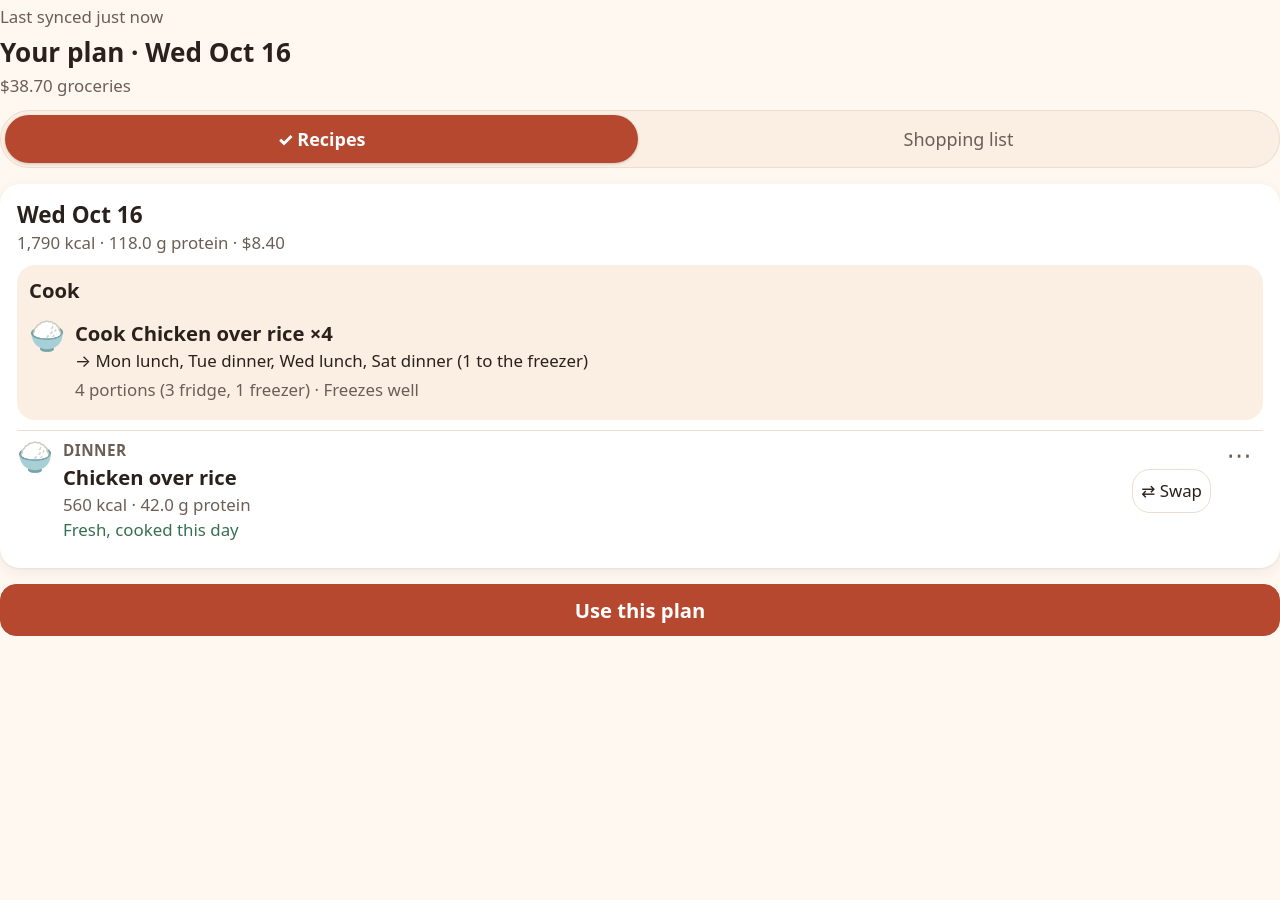
Test: a swap that can't be applied › says why at the top of the sheet and on the option, keeps the sheet open and the meal as it was
Click the button with aria-label "Swap Chicken over rice": [1172, 491] box [1132, 469, 1211, 513]
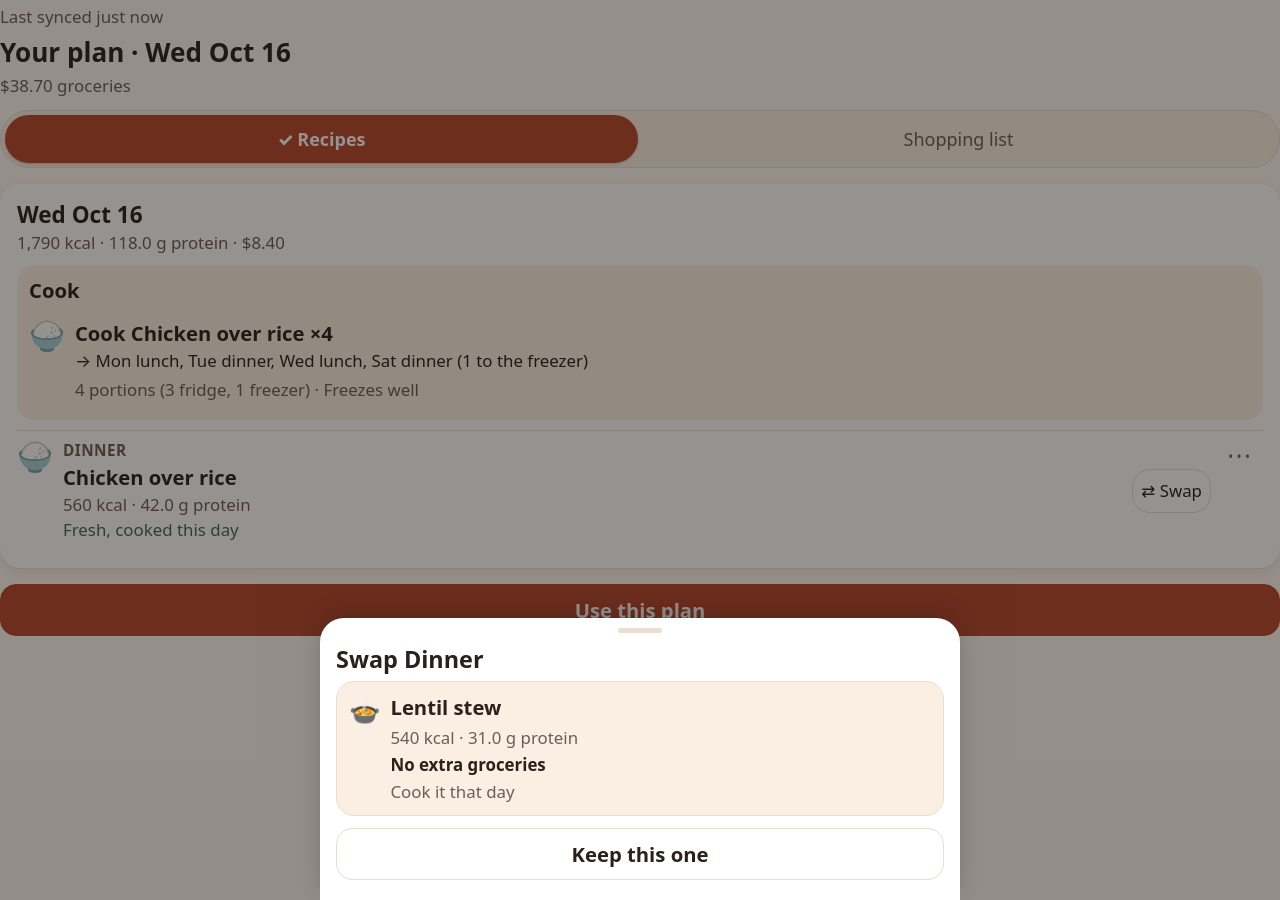
Click the button with aria-label "Swap to Lentil stew": [365, 710] box [336, 681, 944, 816]
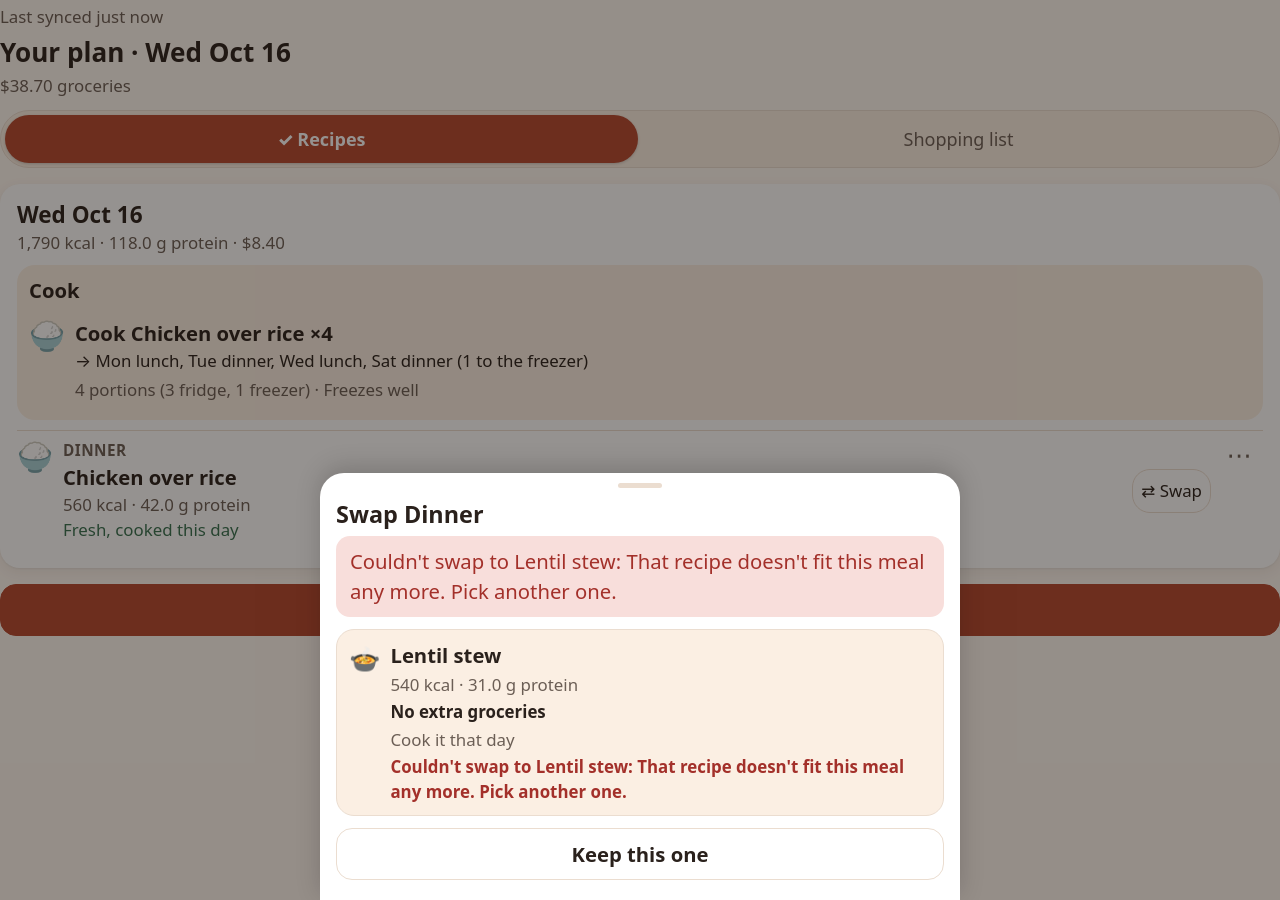
Expected: the text "Chicken over rice" is shown, [63, 462, 251, 492]
Expected: the message shows "Couldn't swap to Lentil stew: That recipe doesn't fit this meal any more. Pick another one.", [350, 547, 925, 605]
